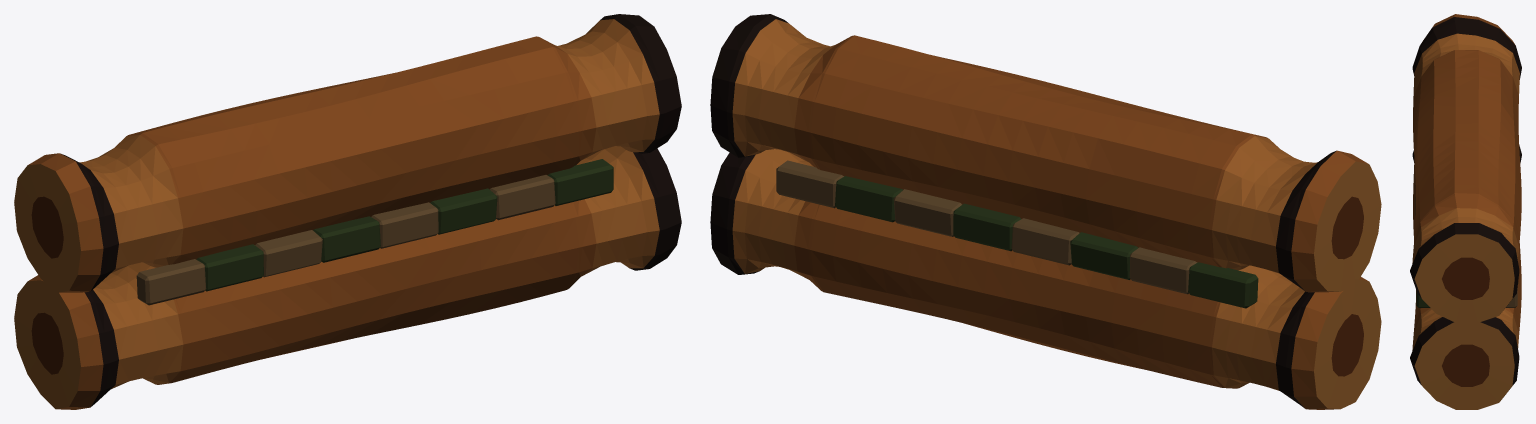
File: mod_chinked_log_course_2m.glb
The picture shows the model from 3 angles, left to right: view 1: azimuth 30°, elevation 25°; view 2: azimuth 150°, elevation 25°; view 3: azimuth 270°, elevation 25°; orthographic projection. The views are drawn at different scales.
Visible parts, largest first — view 1: Mod_Chinked_Log_Course_2m; view 2: Mod_Chinked_Log_Course_2m; view 3: Mod_Chinked_Log_Course_2m.
Boxes of the visible parts, x1,y1,x2,y2 form: Mod_Chinked_Log_Course_2m: (14, 14, 681, 409); Mod_Chinked_Log_Course_2m: (710, 14, 1381, 409); Mod_Chinked_Log_Course_2m: (1410, 14, 1521, 409).
Bounding box in the file's own units: 2.16 × 0.8571 × 0.4661.
